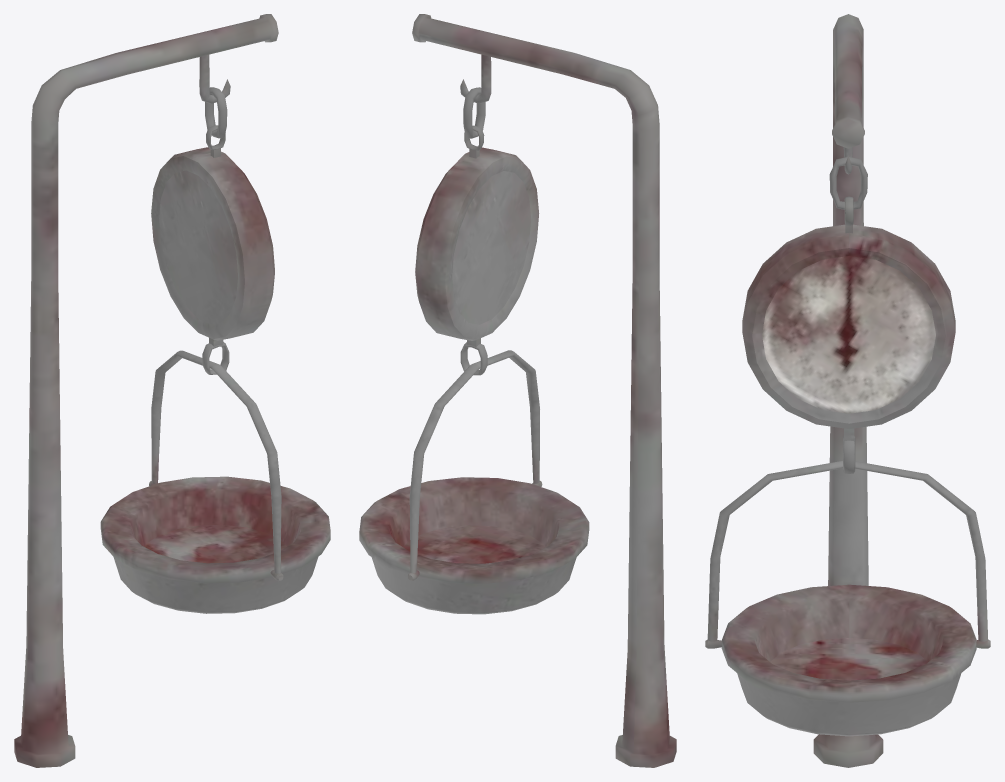
Rendered from autopsy_scales.glb.
3 views of the same model, side by side, from view 1: azimuth 30°, elevation 25°; view 2: azimuth 150°, elevation 25°; view 3: azimuth 270°, elevation 25° (orthographic). The views are drawn at different scales.
Parts seen in each view (by area): view 1: autopsy_scales; view 2: autopsy_scales; view 3: autopsy_scales.
Boxes of the visible parts, x1,y1,x2,y2 form: autopsy_scales: (14,14,330,767); autopsy_scales: (359,14,676,767); autopsy_scales: (705,14,990,767).
Bounding box in the file's own units: 0.405 × 0.8876 × 0.3035.
Materials: 1 (1 with a texture image).
